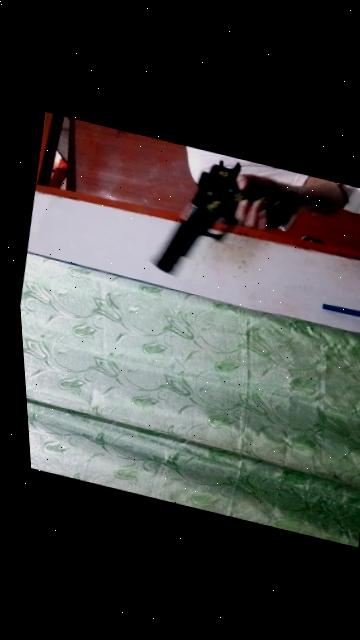pistol: (122, 134, 313, 305)
